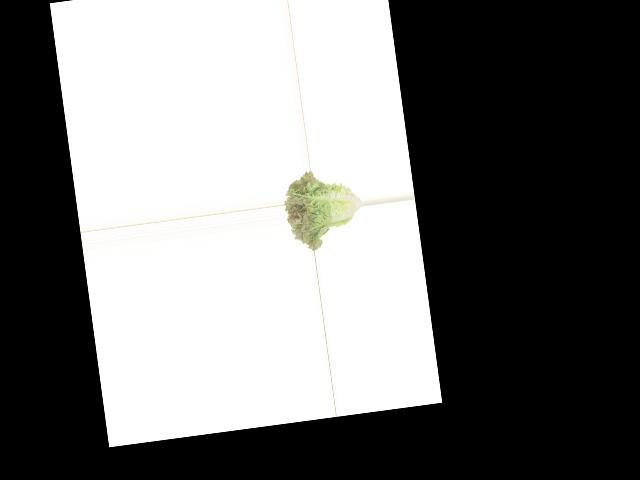lettuce: (281, 165, 366, 253)
